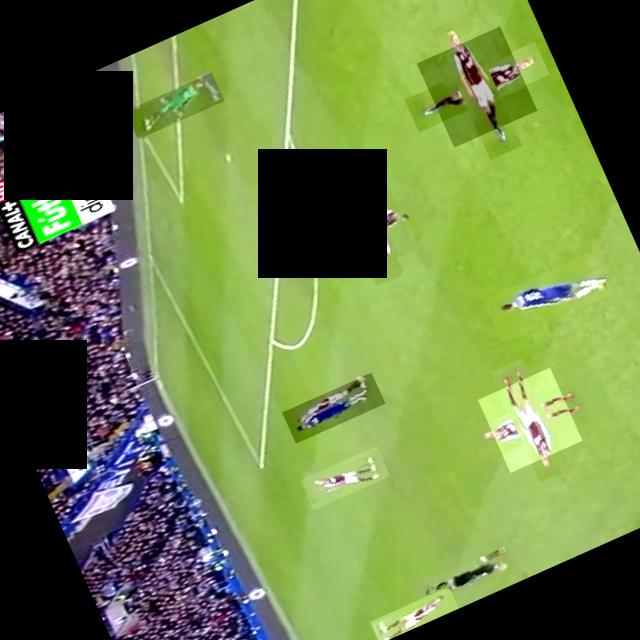goalkeeper: (125, 72, 224, 138)
referee: (416, 544, 514, 608)
soccer-player: (417, 26, 538, 146), (482, 246, 622, 342), (478, 366, 582, 472), (322, 183, 416, 278), (282, 372, 385, 442), (300, 445, 390, 509), (369, 585, 459, 640)
